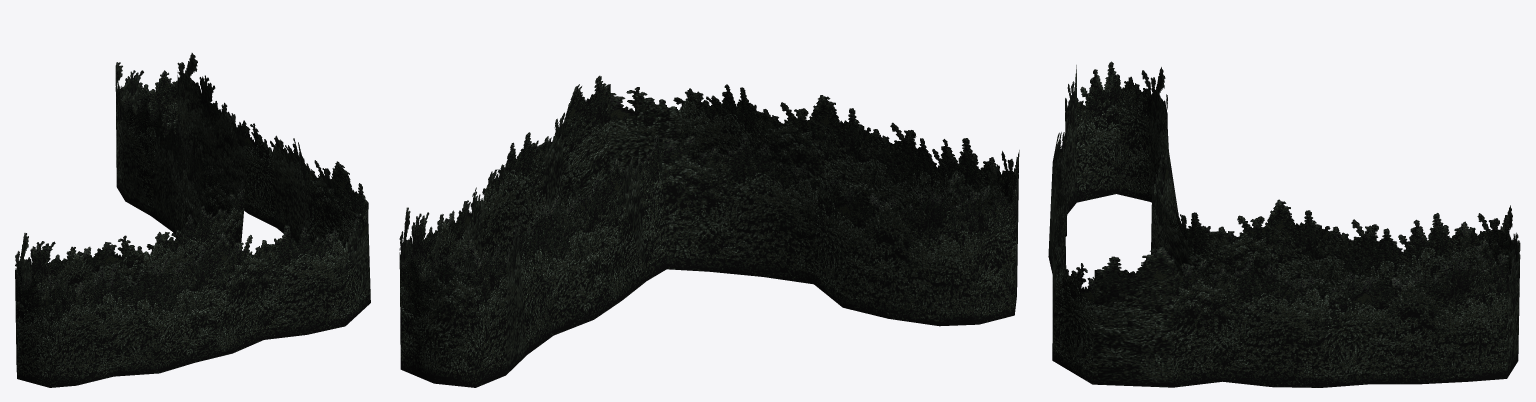
Rendered from SM_EC_ScrubLine_Alt_4.fbx.
The picture shows the model from 3 angles, left to right: view 1: azimuth 30°, elevation 25°; view 2: azimuth 150°, elevation 25°; view 3: azimuth 270°, elevation 25°; orthographic projection. The views are drawn at different scales.
Parts seen in each view (by area): view 1: SM_EC_ScrubLine_Alt_4; view 2: SM_EC_ScrubLine_Alt_4; view 3: SM_EC_ScrubLine_Alt_4.
Boxes of the visible parts, bbox=[...] form: SM_EC_ScrubLine_Alt_4: bbox=[15, 53, 370, 387]; SM_EC_ScrubLine_Alt_4: bbox=[399, 75, 1019, 387]; SM_EC_ScrubLine_Alt_4: bbox=[1048, 61, 1520, 387].
Bounding box in the file's own units: 9.37 × 9.6 × 4.
